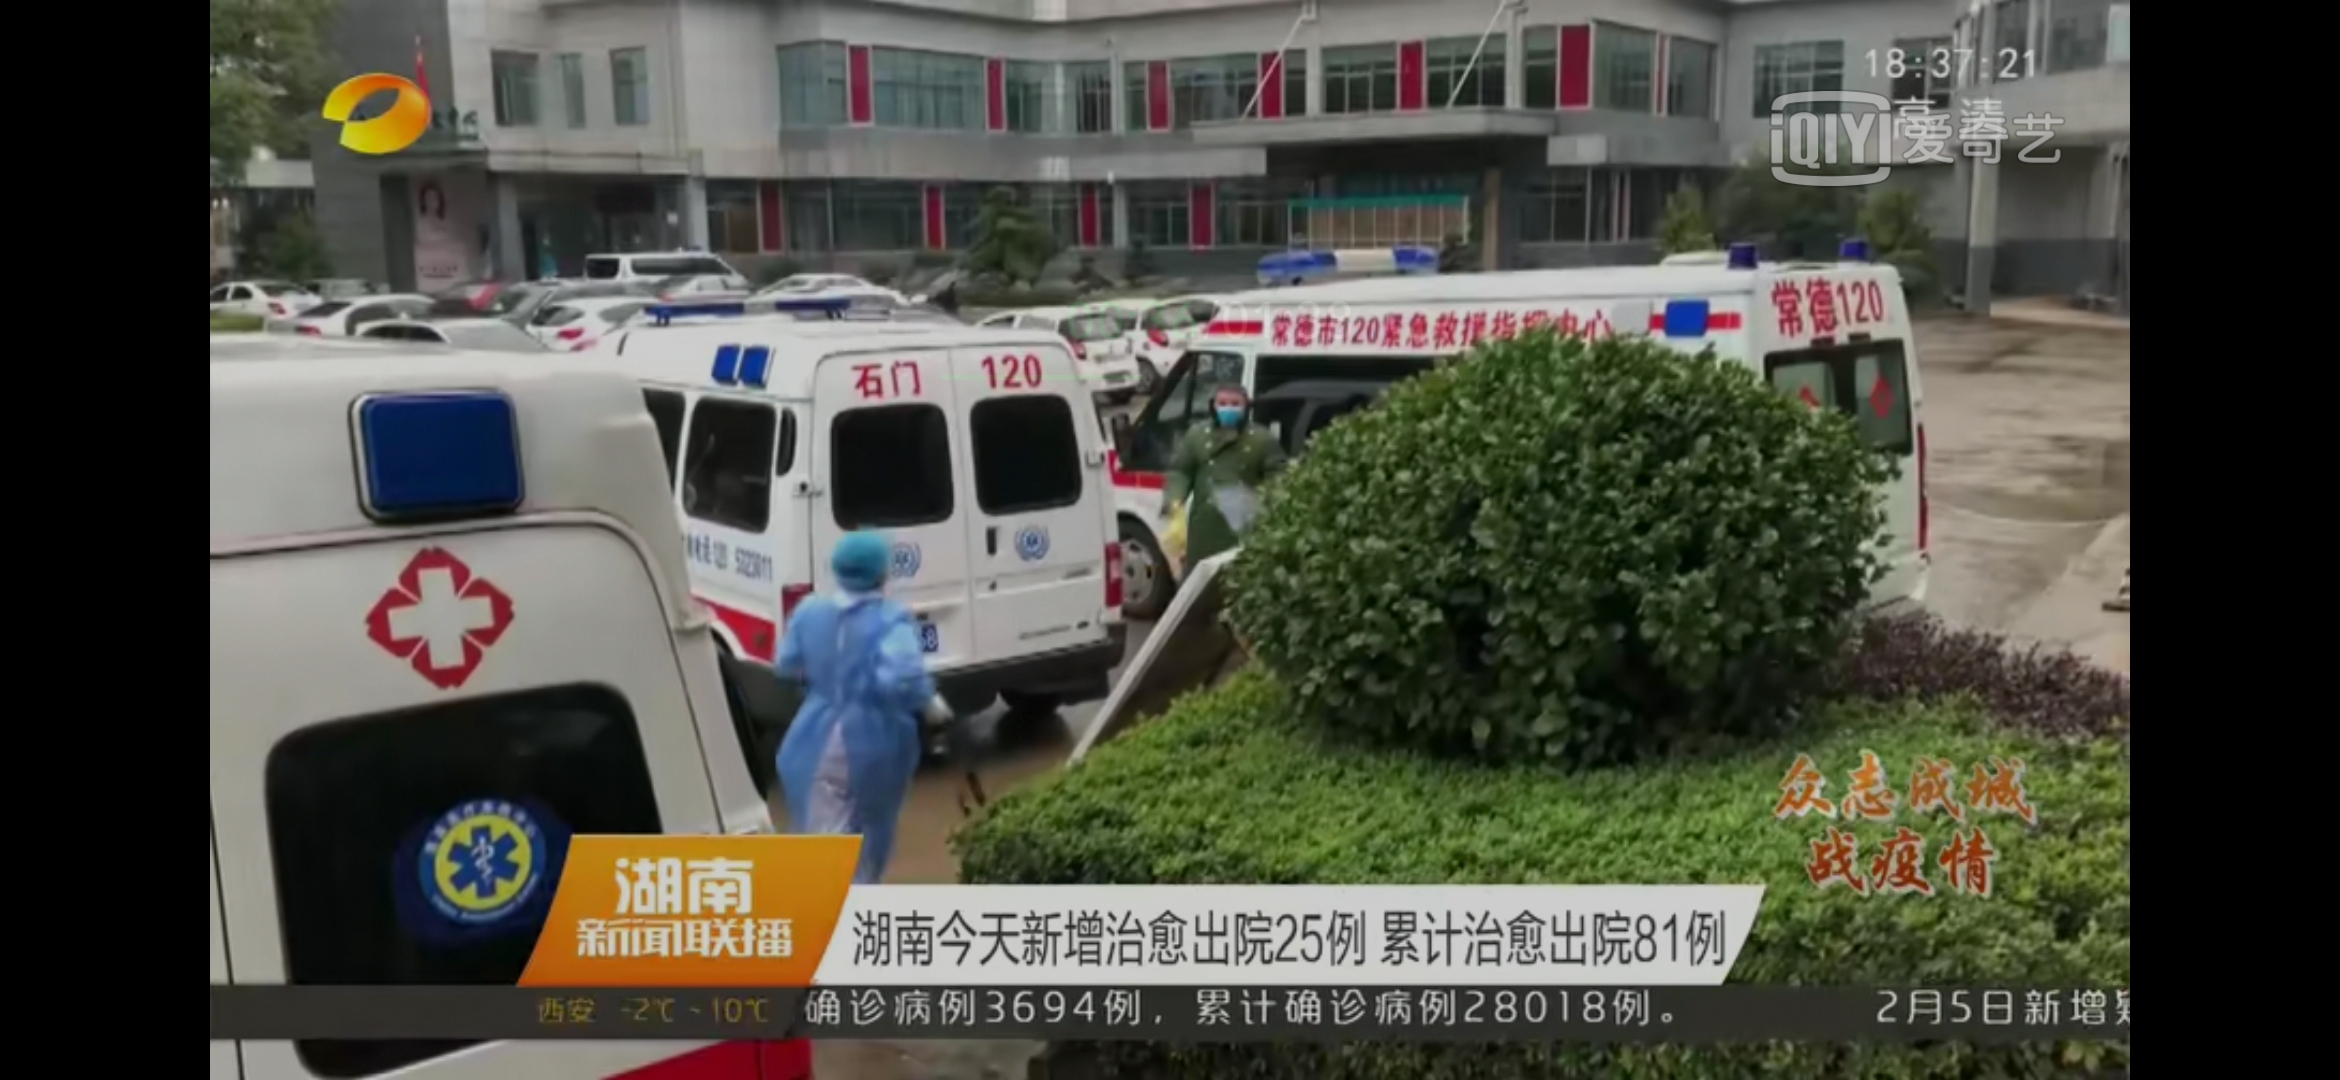correctlyWear: (1207, 394, 1251, 433)
